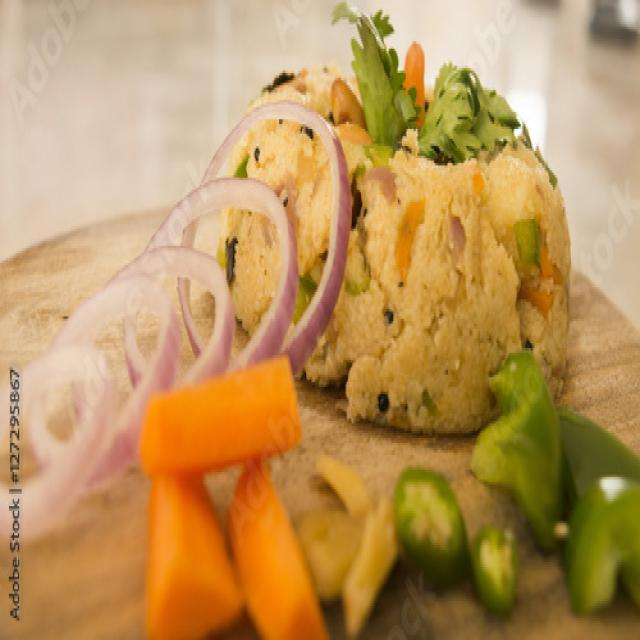UPMA: (257, 2, 570, 431), (229, 119, 332, 321), (218, 209, 278, 326)
